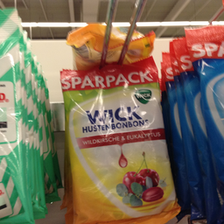candy: (63, 64, 169, 219), (172, 26, 224, 211), (1, 11, 46, 224)
